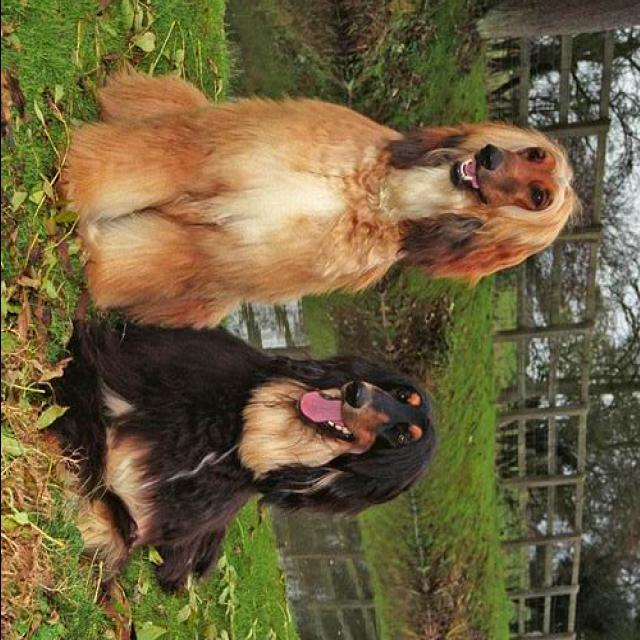afghan_hound: (55, 74, 575, 326), (35, 320, 432, 596)
